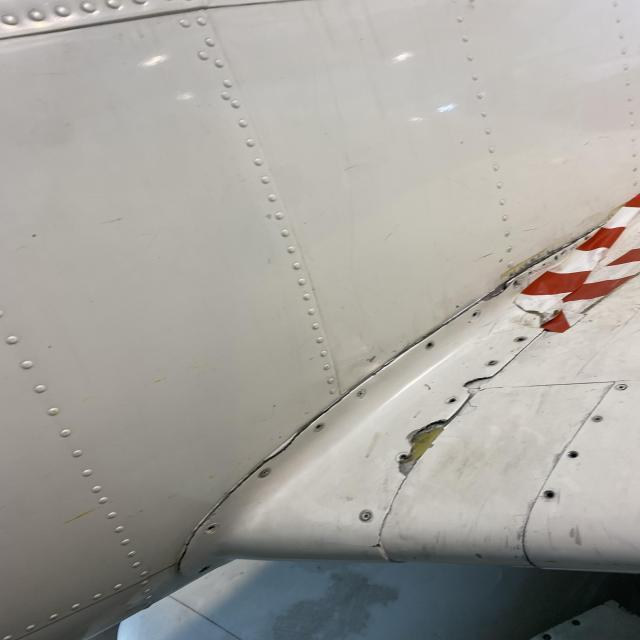Fastener Damage: (204, 523, 218, 536), (544, 489, 557, 502), (511, 278, 521, 290), (424, 340, 436, 350), (592, 414, 604, 424), (568, 450, 580, 460), (314, 423, 326, 432), (446, 396, 458, 404), (514, 336, 528, 342), (470, 310, 480, 318)
Rupture: (382, 409, 475, 482), (165, 518, 200, 578), (257, 426, 309, 464), (473, 272, 512, 304), (456, 371, 496, 401), (366, 542, 384, 550)
